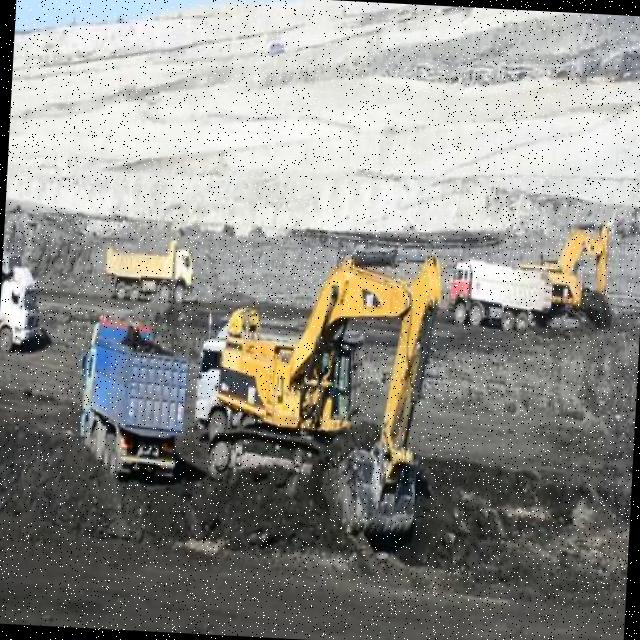Dump Truck: (73, 311, 194, 485), (444, 258, 551, 333), (101, 238, 197, 304), (0, 252, 42, 350)
Excavator: (201, 237, 437, 548), (518, 212, 612, 328)
